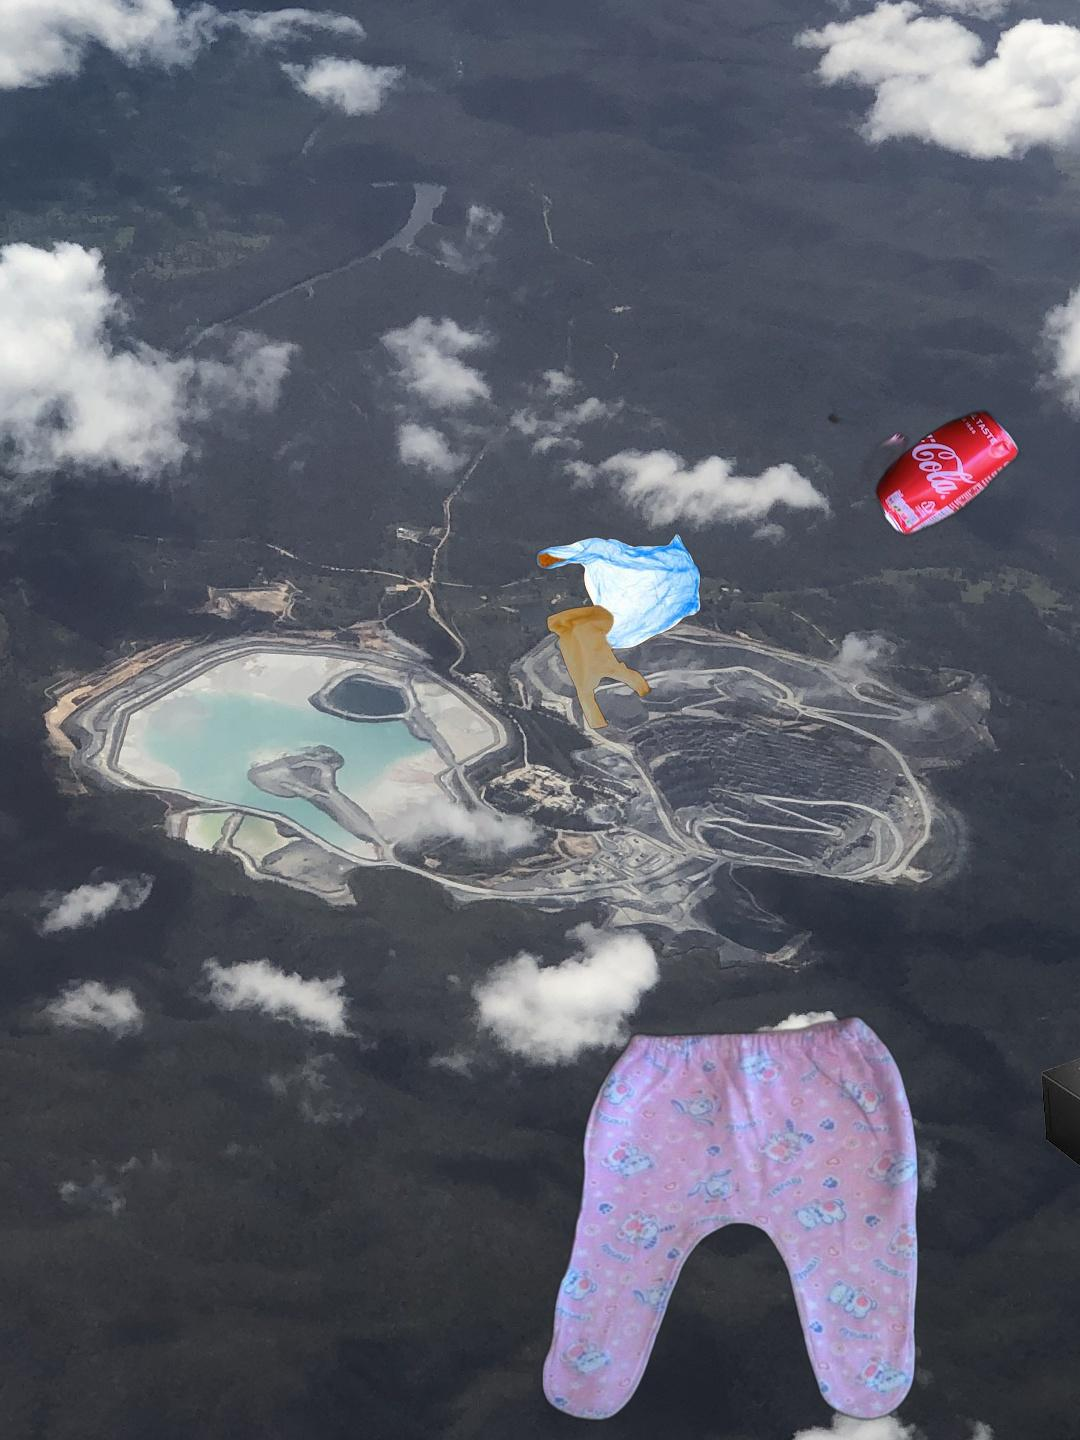battery: (1038, 1036, 1080, 1179), (1075, 359, 1080, 469)
biological: (762, 361, 1026, 551)
clothes: (541, 1010, 921, 1426)
metal-cans: (871, 405, 1024, 542)
plastic-bag: (534, 532, 702, 732)
